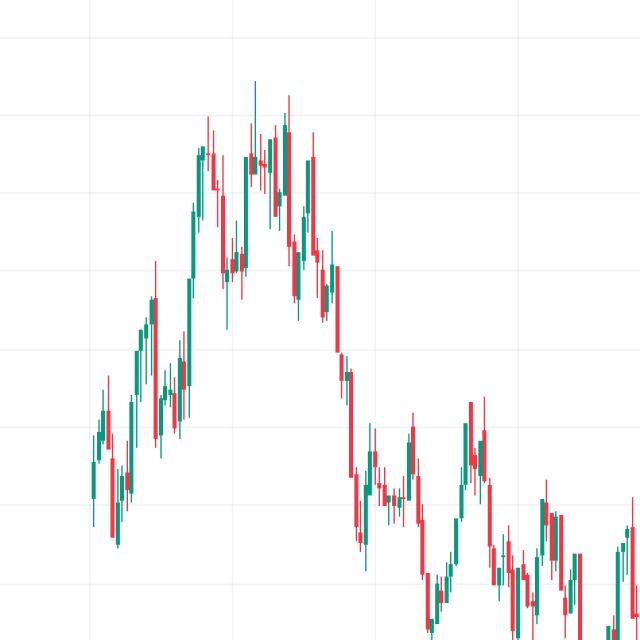Triple-Top: (175, 94, 334, 288)
